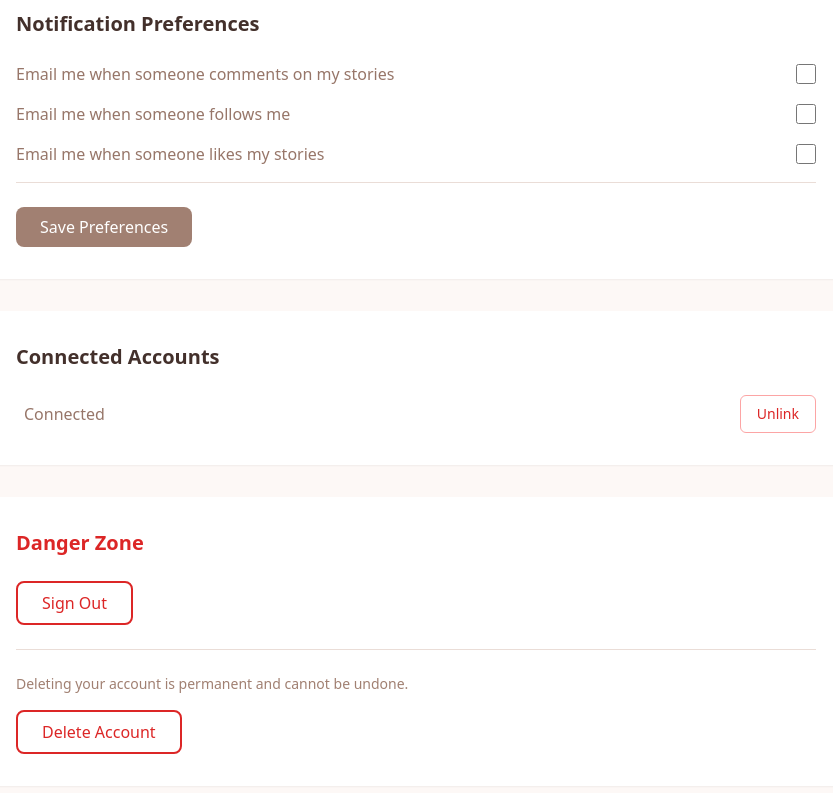
pages/user/settings.vue › clicking Unlink reveals the inline confirm
(page scrolled)
Click the button "Unlink".
click(778, 414)  # box [740, 395, 816, 433]
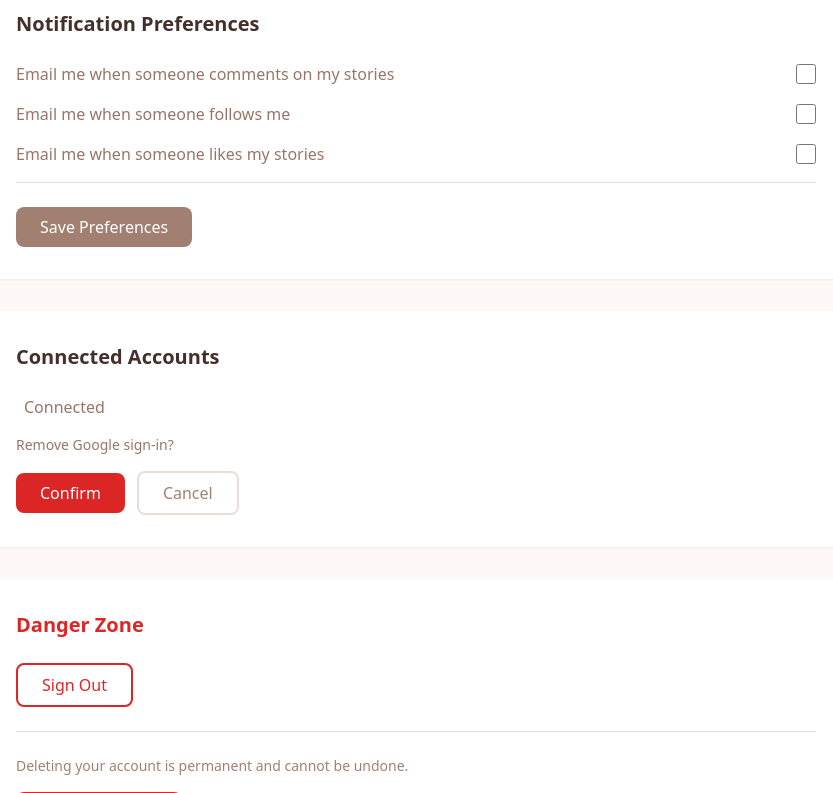
Check: the text "Remove Google sign-in?" is shown, box [16, 435, 174, 454]
